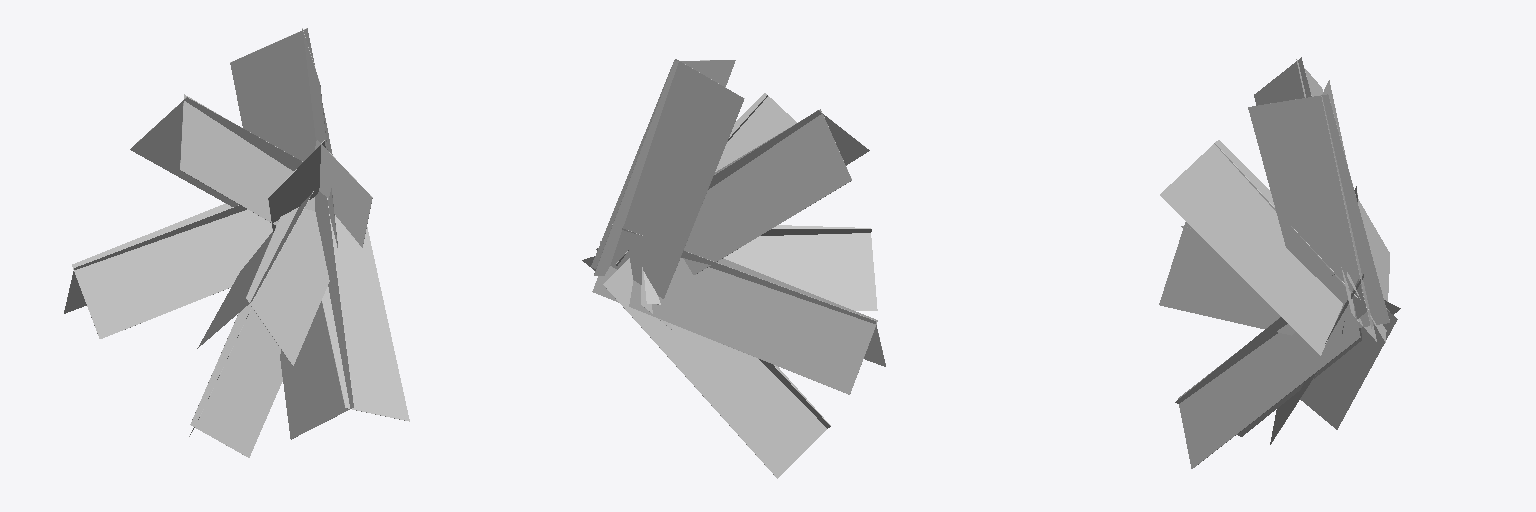
The model's file is palm_leaves_small_5.obj.
3 views of the same model, side by side, from view 1: azimuth 30°, elevation 25°; view 2: azimuth 150°, elevation 25°; view 3: azimuth 270°, elevation 25° (orthographic).
Visible parts, largest first — view 1: Frond.034_Cube.005, Frond.032_Cube.005, Frond.030_Cube.005, Frond.033_Cube.005, Frond.037_Cube.006, Frond.035_Cube.005, Frond.031_Cube.005; view 2: Frond.037_Cube.006, Frond.032_Cube.005, Frond.030_Cube.005, Frond.035_Cube.005, Frond.033_Cube.005, Frond.031_Cube.005; view 3: Frond.037_Cube.006, Frond.031_Cube.005, Frond.034_Cube.005, Frond.033_Cube.005, Frond.035_Cube.005, Frond.030_Cube.005, Frond.032_Cube.005.
Part boxes in pixels (x1,y1,x2,y2): Frond.034_Cube.005: (280,191,409,439); Frond.032_Cube.005: (64,203,353,338); Frond.030_Cube.005: (130,94,314,225); Frond.033_Cube.005: (197,191,329,365); Frond.037_Cube.006: (230,28,337,247); Frond.035_Cube.005: (189,304,282,457); Frond.031_Cube.005: (268,140,372,247); Frond.037_Cube.006: (591,59,744,298); Frond.032_Cube.005: (592,224,885,394); Frond.030_Cube.005: (596,109,869,274); Frond.035_Cube.005: (603,258,830,478); Frond.033_Cube.005: (644,225,877,310); Frond.031_Cube.005: (616,93,796,265); Frond.037_Cube.006: (1248,80,1389,328); Frond.031_Cube.005: (1160,140,1368,355); Frond.034_Cube.005: (1175,274,1400,468); Frond.033_Cube.005: (1159,222,1389,335); Frond.035_Cube.005: (1270,310,1397,444); Frond.030_Cube.005: (1254,57,1376,341); Frond.032_Cube.005: (1325,186,1389,343).
Size of the model in its own units: 2.05 by 2.62 by 1.47.